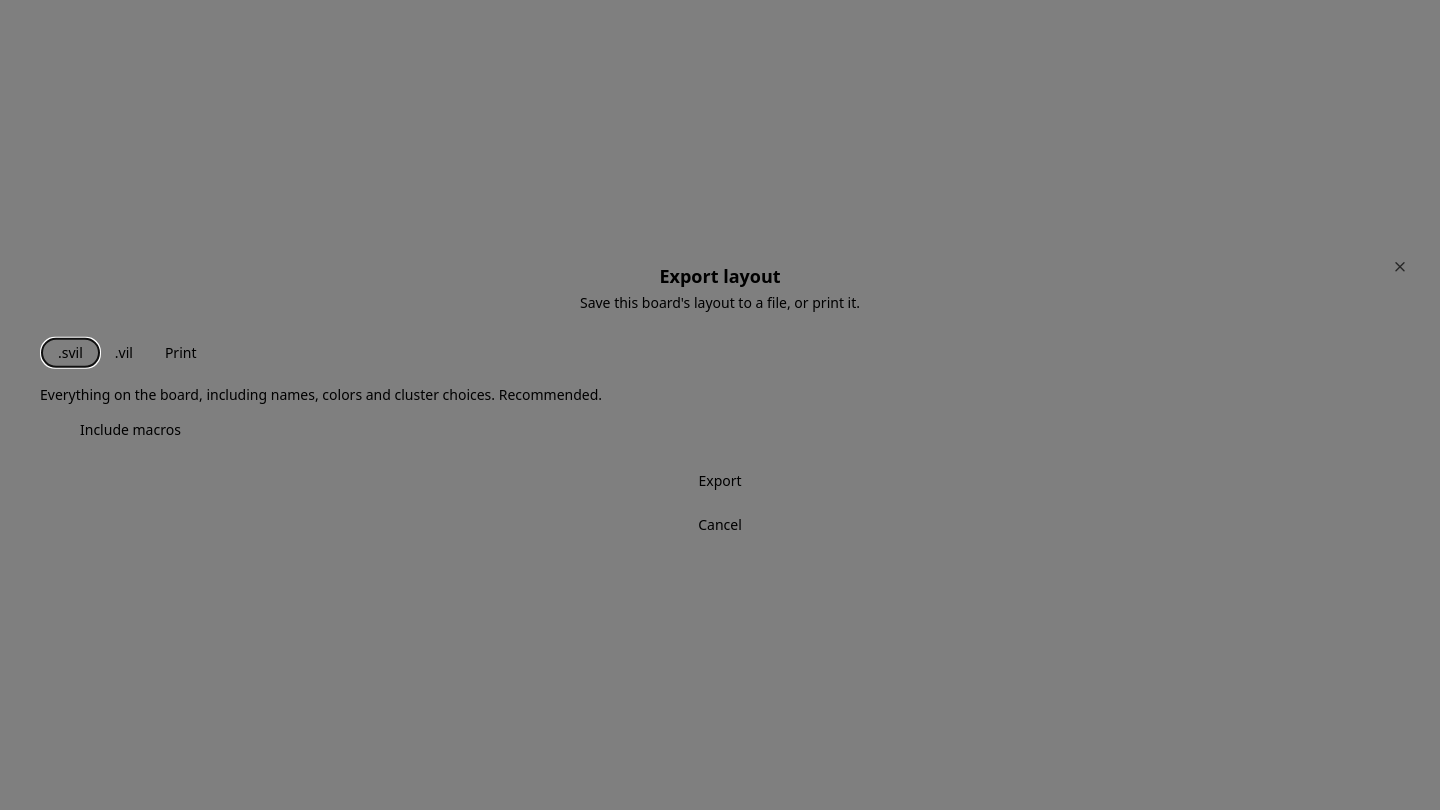
Test: Export dialog › shows a failed export and stays open
Click the button "Export" at (720, 481), box top-left (40, 463), bottom-right (1400, 499)
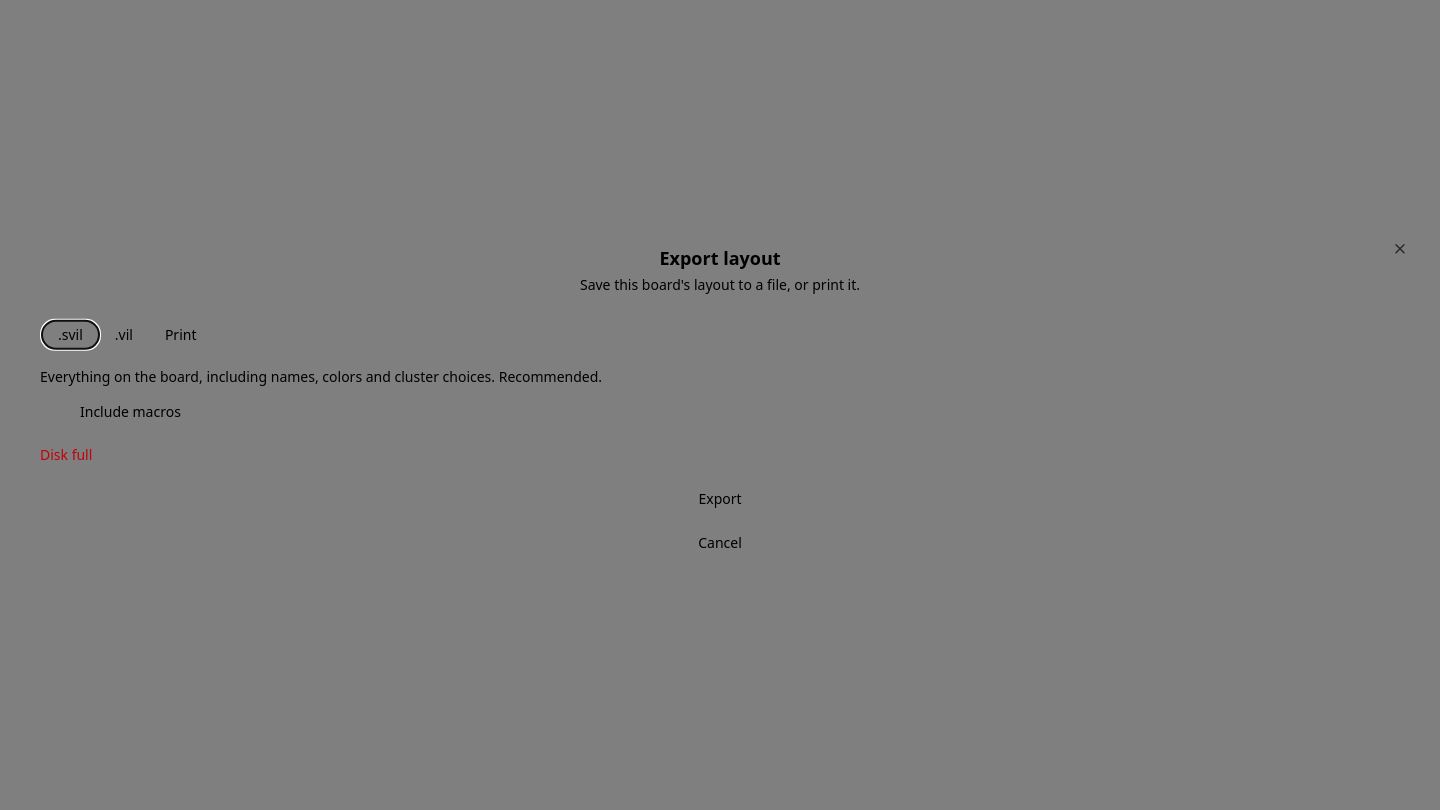
Expected: the message reads "Disk full", top-left (40, 445), bottom-right (92, 464)
